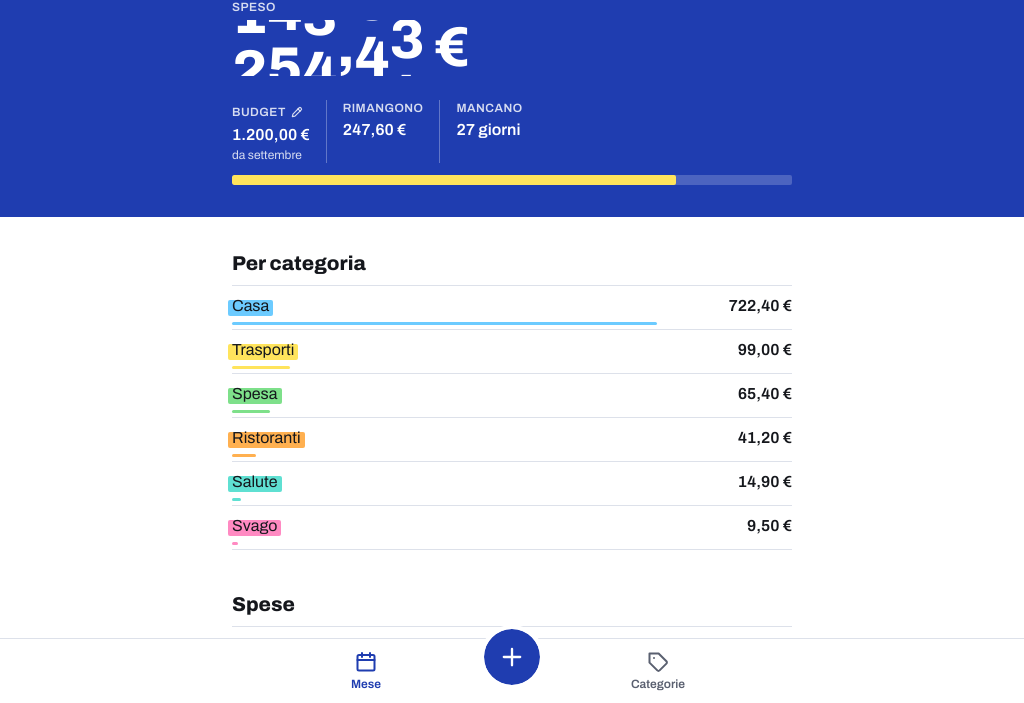
Test: schermata Mese › filtra l’elenco toccando una categoria e torna a mostrare tutto
The image size is (1024, 703).
Click the button "Ristoranti 41,20 €": (266, 437) [232,418,792,462]
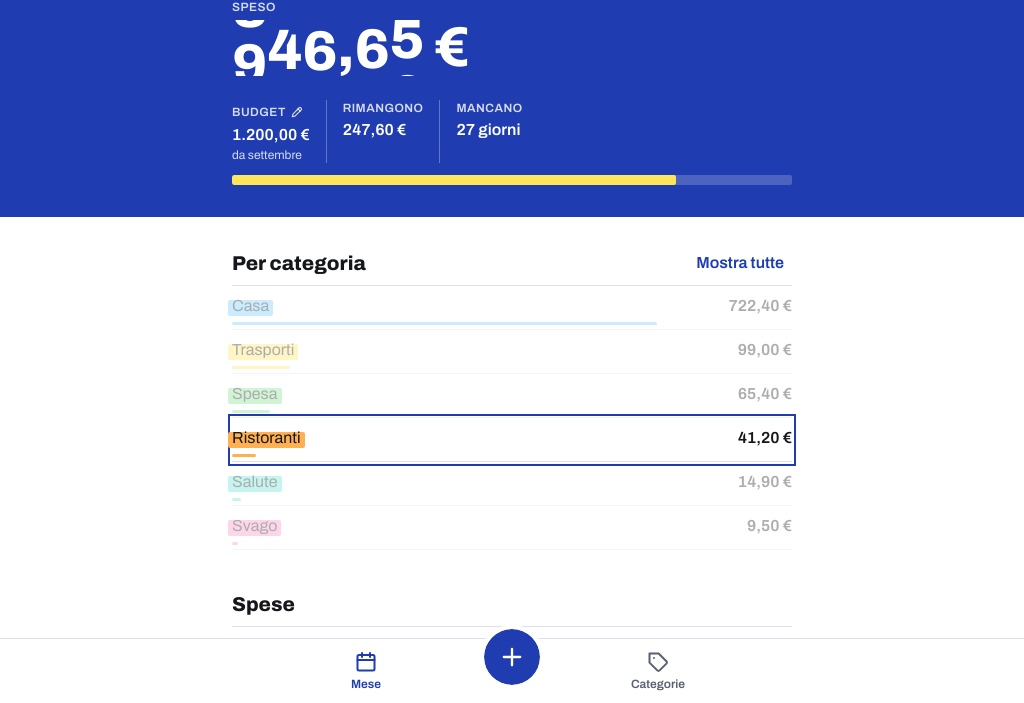
Expected: the text "Esselunga" is not shown
Click the button "Mostra tutte": (740, 263) [688,241,792,285]
(page scrolled)
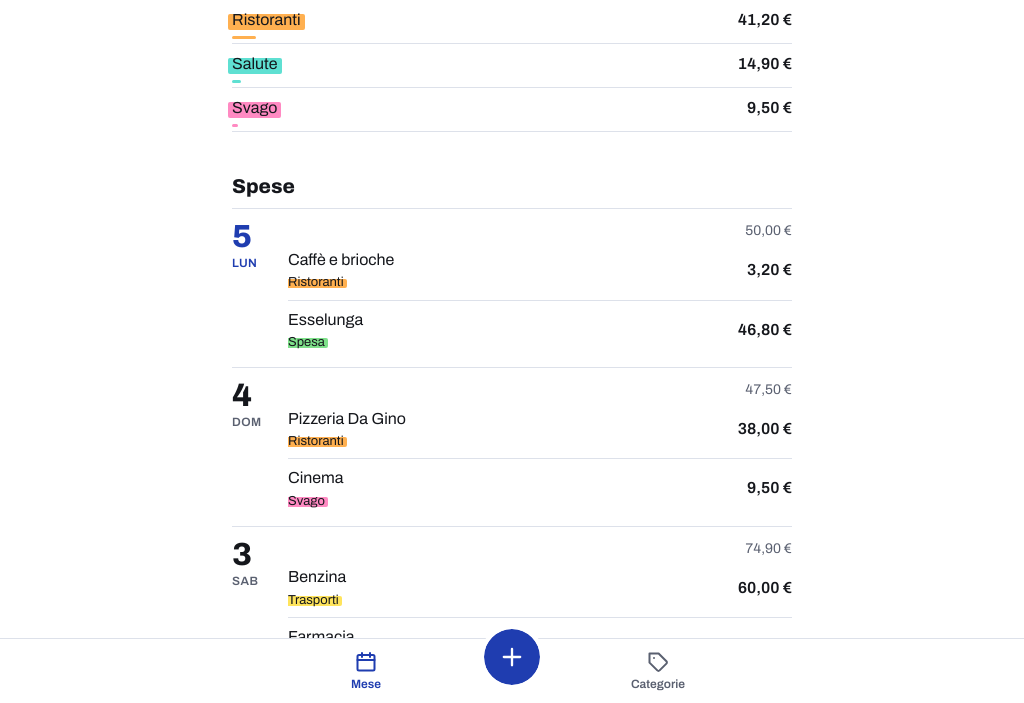
Now the text "Esselunga" is shown, box [288,310,363,328]
